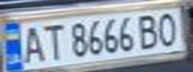6: (115, 14, 139, 53), (84, 17, 106, 56), (103, 15, 124, 55)
8: (66, 19, 87, 57)
A: (18, 24, 48, 64)
B: (133, 11, 163, 50)
O: (151, 9, 184, 47)
T: (39, 21, 66, 62)
